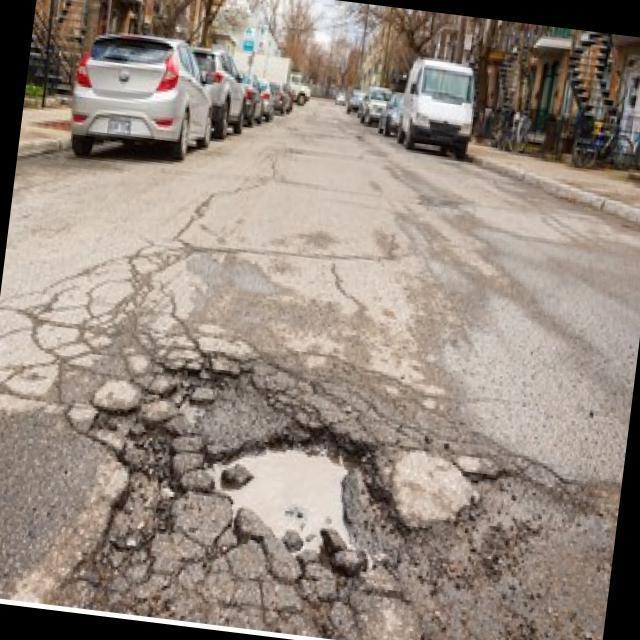Pothole: (40, 367, 622, 640)
